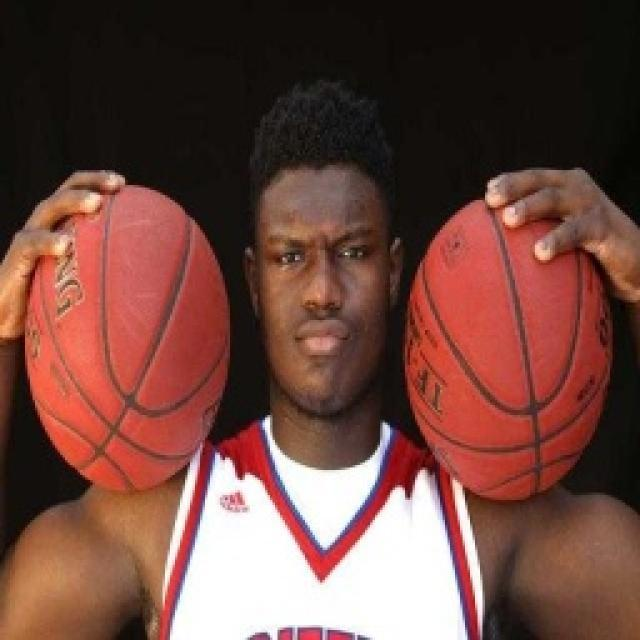rim: (19, 174, 242, 502), (396, 180, 618, 508)
